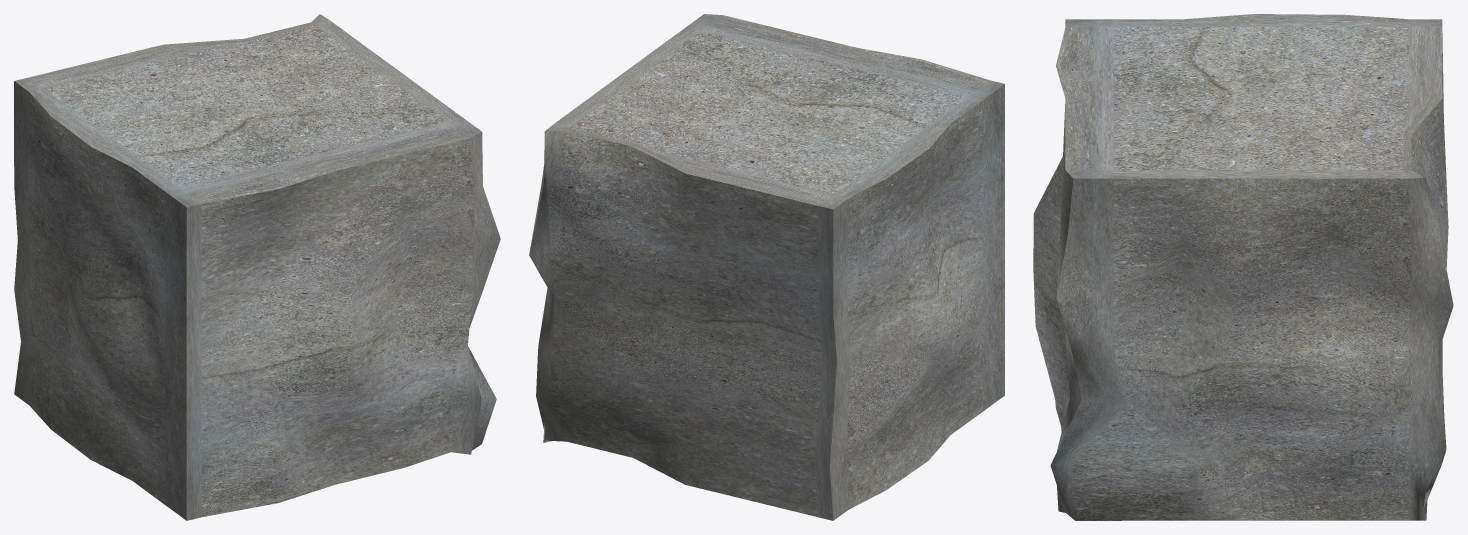
The model's file is rock pillar.FBX.
3 views of the same model, side by side, from view 1: azimuth 30°, elevation 25°; view 2: azimuth 150°, elevation 25°; view 3: azimuth 270°, elevation 25° (orthographic). The views are drawn at different scales.
Visible parts, largest first — view 1: Box001; view 2: Box001; view 3: Box001.
Part boxes in pixels (left/top/right/bottom): Box001: left=14, top=14, right=500, bottom=520; Box001: left=529, top=14, right=1004, bottom=520; Box001: left=1033, top=14, right=1453, bottom=520.
Size of the model in its own units: 90.3 by 89.18 by 80.27.
1 material, 1 textured.
